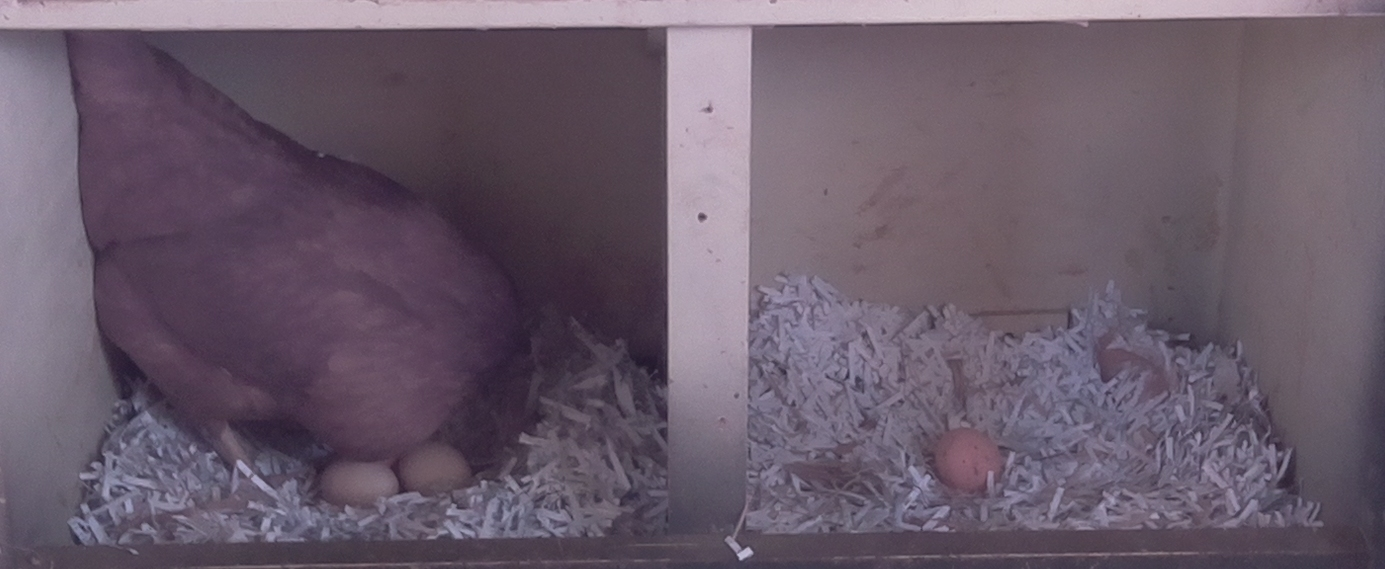Chicken: (62, 38, 542, 446)
Egg: (930, 427, 1009, 495), (313, 456, 398, 513), (398, 441, 476, 501)
